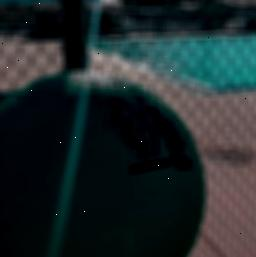algae: (0, 67, 211, 257)
